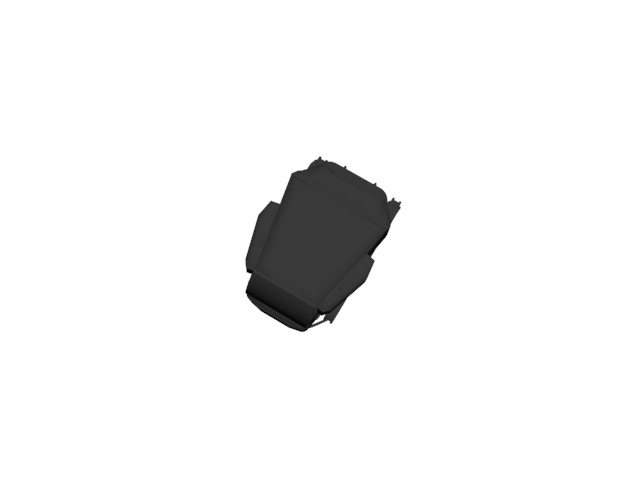back_pack: (241, 153, 408, 336)
